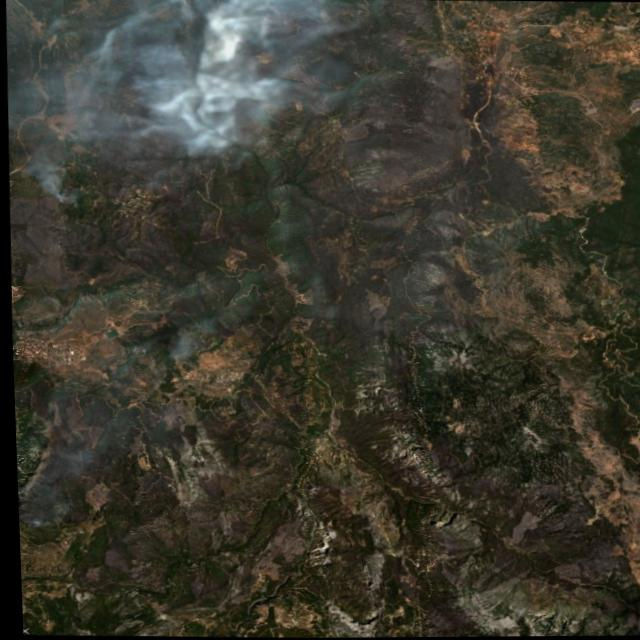fire: (160, 0, 267, 66), (24, 167, 90, 215), (144, 328, 202, 368)
